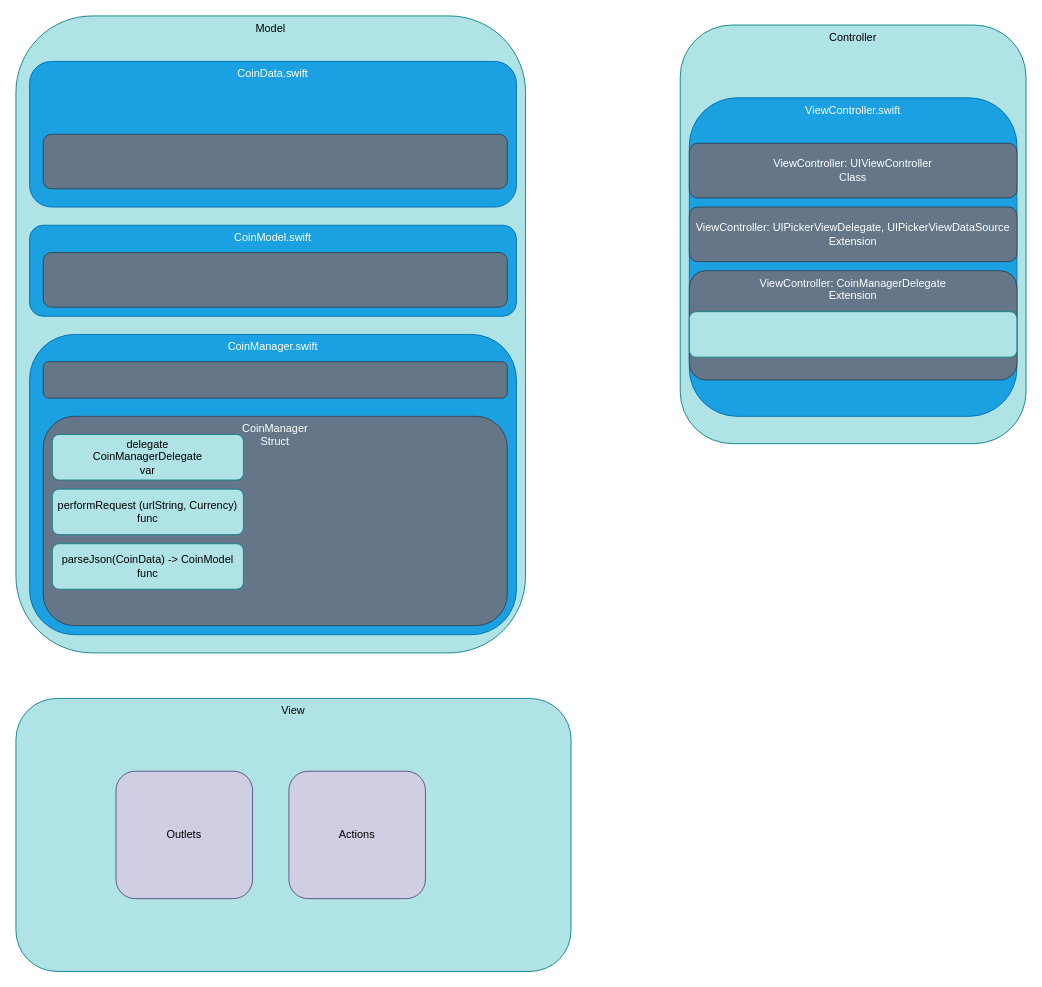
The diagram is 1042 pixels wide and 987 high, and some of its shapes have lost their labels. The centre of each missing label's shape, as x and y in pixels:
"CoinData Struct" belongs at [274,161].
"CoinManagerDelegate Protocol" belongs at [274,379].
"CoinModel Struct" belongs at [274,279].
"didUpdatePrice(CoinManager, CoinModel) func" belongs at [852,334].
